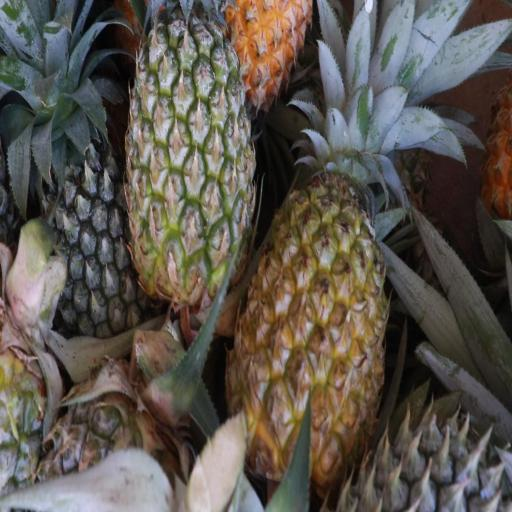------------------------------: (126, 18, 251, 304)
Pineapple - v8 v1: (235, 190, 385, 474), (220, 0, 319, 99)
